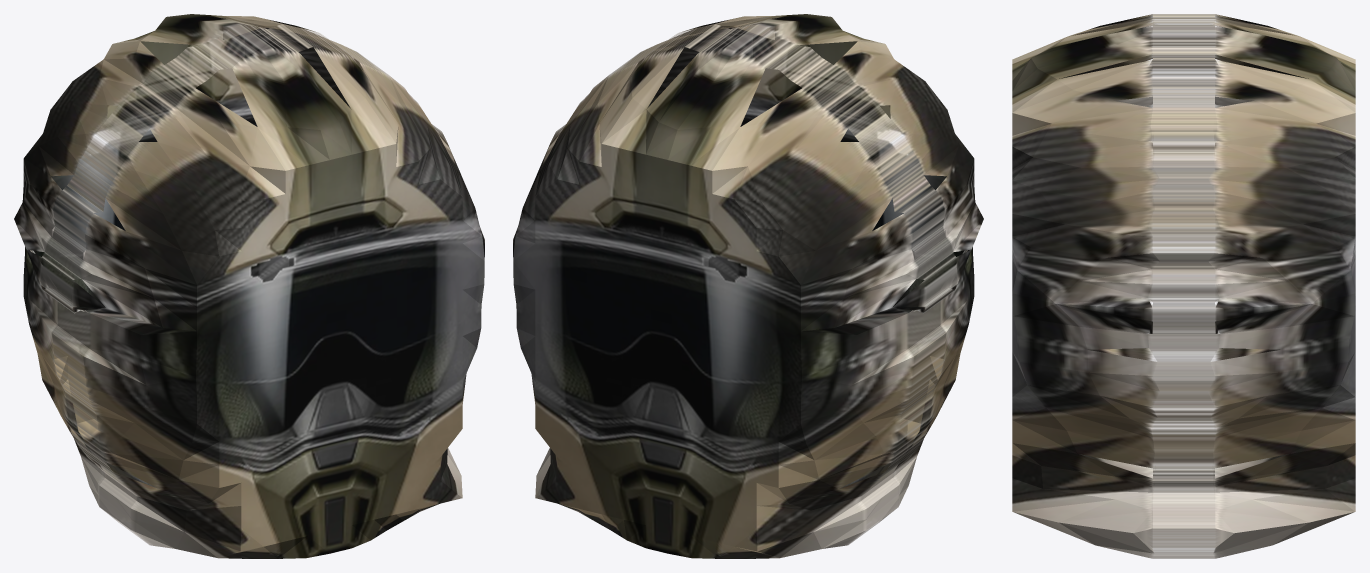
The model's file is forma-nomad-urban-helmet-075.glb.
3 views of the same model, side by side, from view 1: azimuth 30°, elevation 25°; view 2: azimuth 150°, elevation 25°; view 3: azimuth 270°, elevation 25° (orthographic).
Parts seen in each view (by area): view 1: world; view 2: world; view 3: world.
Part boxes in pixels (x1,y1,x2,y2): world: [14, 14, 484, 558]; world: [513, 14, 983, 558]; world: [1012, 14, 1355, 558].
Bounding box in the file's own units: 0.827 × 1 × 0.64.
Materials: 1 (1 with a texture image).
